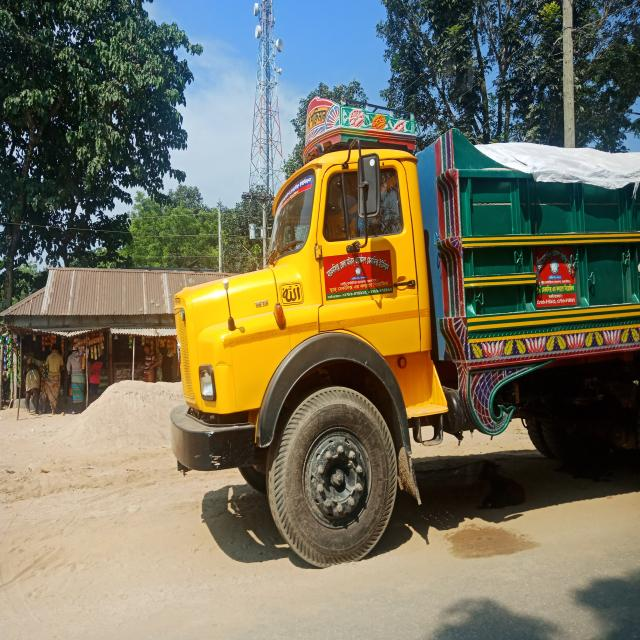truck: (167, 98, 640, 583)
